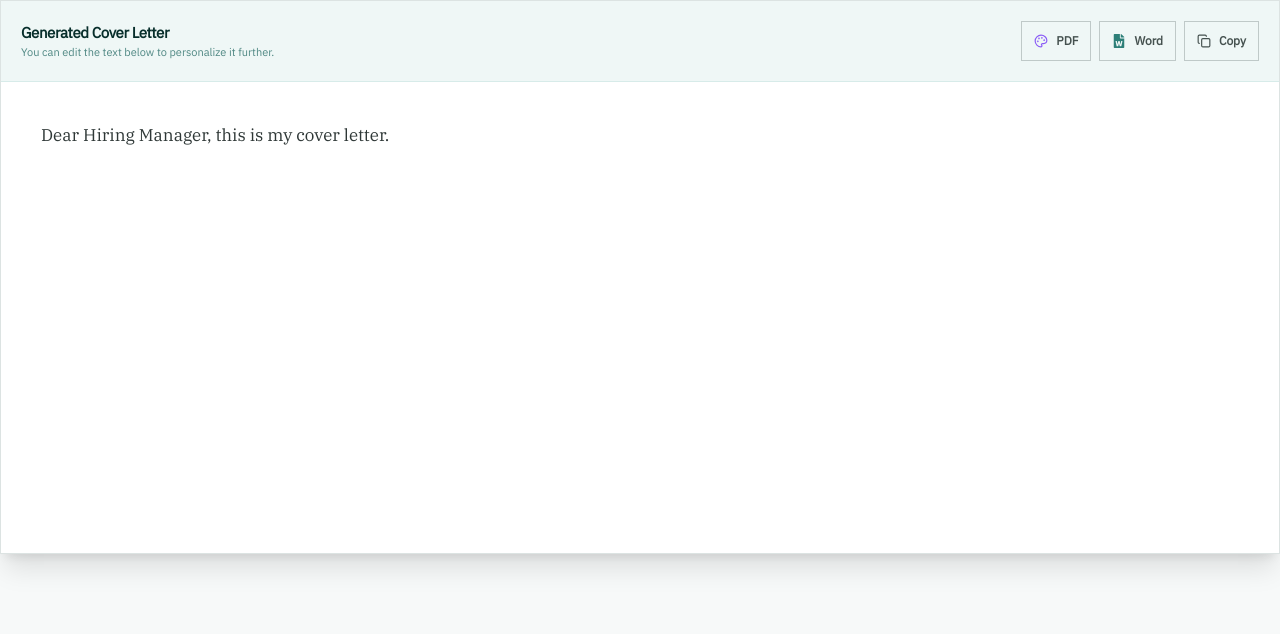
Test: ResultDisplay › PDF button › opens the design picker modal when authenticated
Click the button "PDF".
click(1056, 41)  # box [1021,21,1091,61]
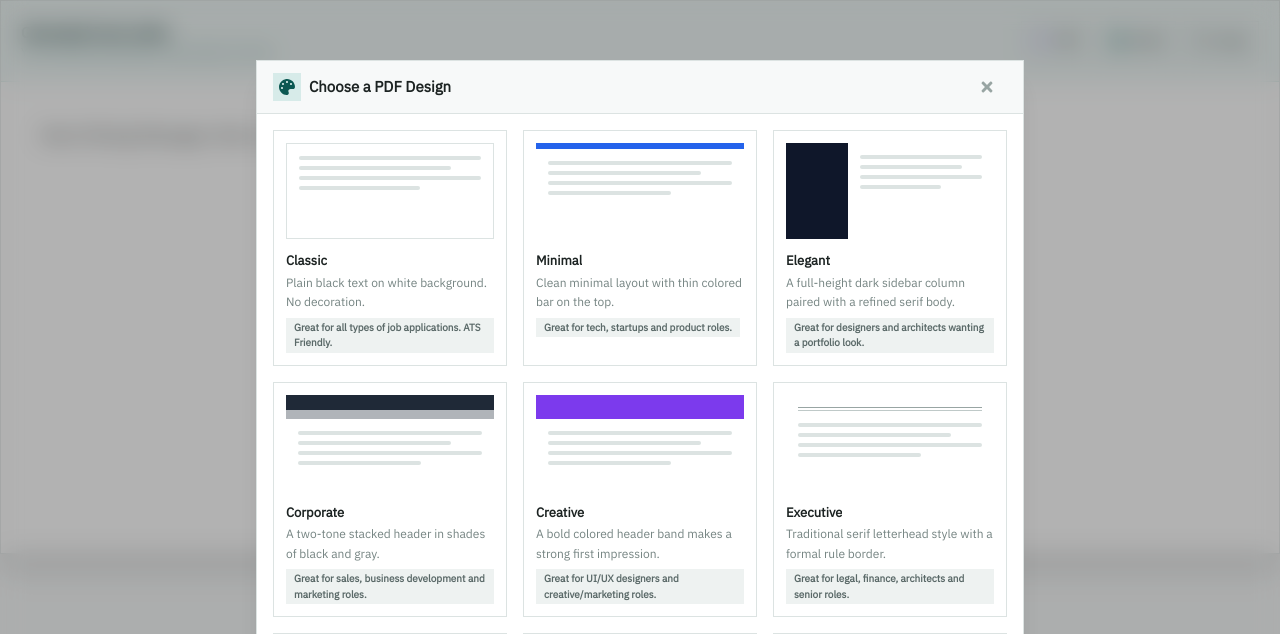
Result: the heading "Choose a PDF Design" is shown at [309,75,451,99]
